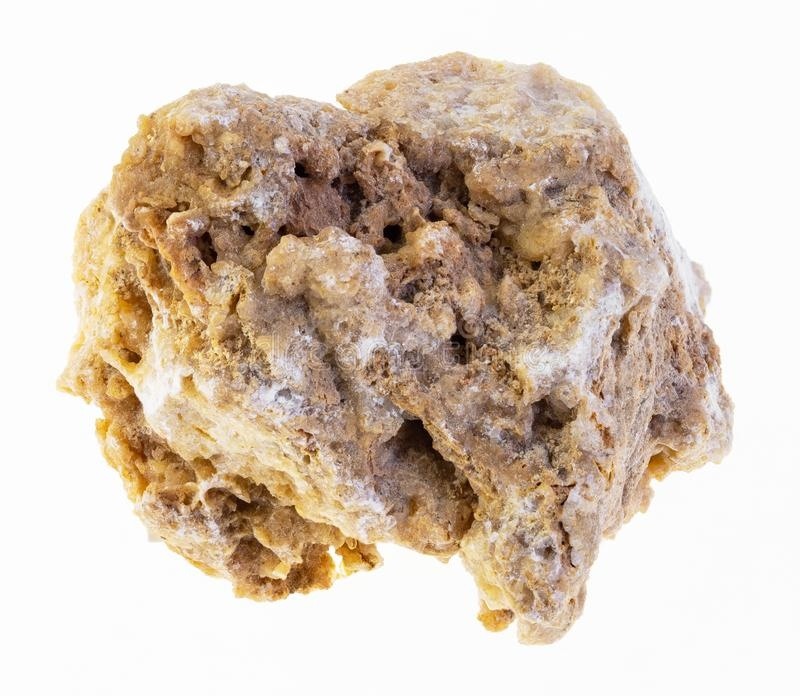obstacle: (61, 54, 730, 642)
